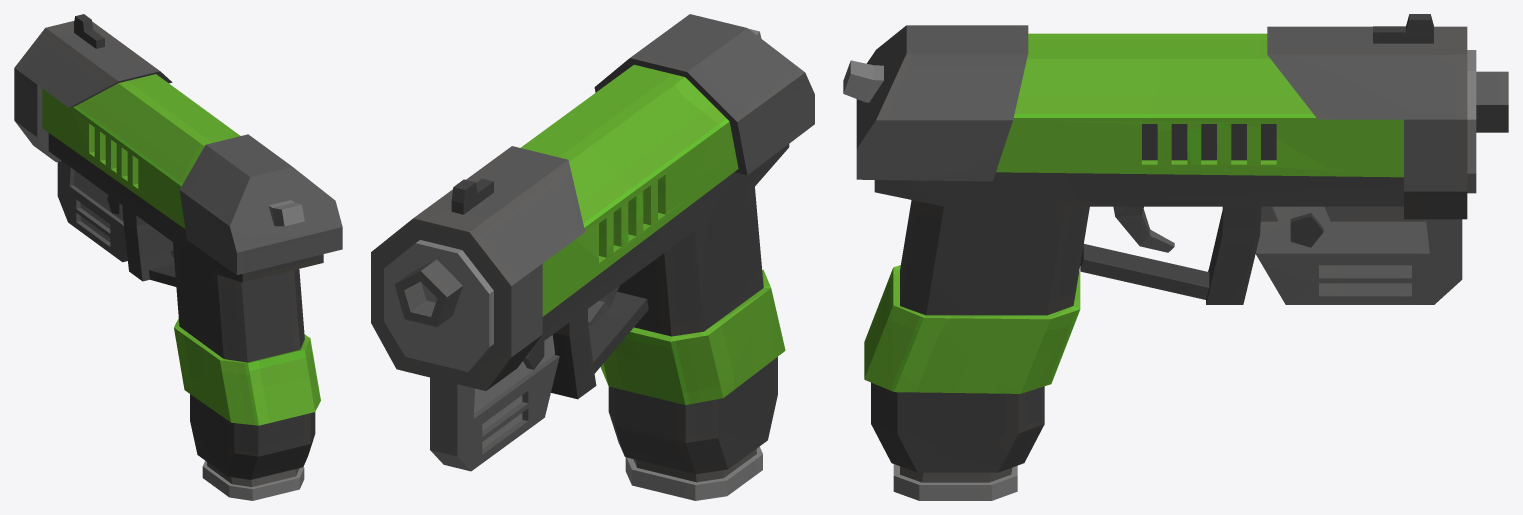
File: pistol_00.glb
The picture shows the model from 3 angles, left to right: view 1: azimuth 30°, elevation 25°; view 2: azimuth 150°, elevation 25°; view 3: azimuth 270°, elevation 25°; orthographic projection. The views are drawn at different scales.
Parts seen in each view (by area): view 1: pistol_00_weapon, pistol_00_mag; view 2: pistol_00_weapon, pistol_00_mag; view 3: pistol_00_weapon, pistol_00_mag.
Boxes of the visible parts, <box> form: pistol_00_weapon: <box>14,14,342,479</box>; pistol_00_mag: <box>202,461,304,500</box>; pistol_00_weapon: <box>371,14,814,474</box>; pistol_00_mag: <box>625,446,762,500</box>; pistol_00_weapon: <box>843,14,1508,472</box>; pistol_00_mag: <box>893,464,1017,500</box>.
Size of the model in its own units: 0.2956 by 0.8977 by 1.18.
Materials: 1 (1 with a texture image).
